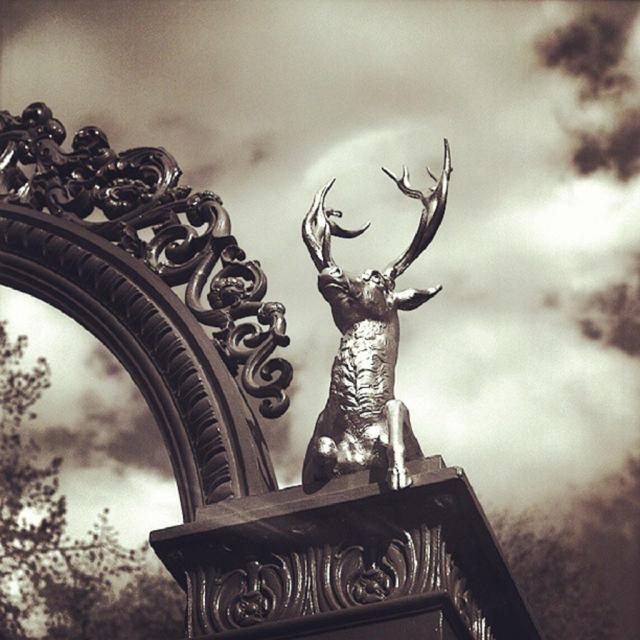Deer: (298, 137, 452, 489)
